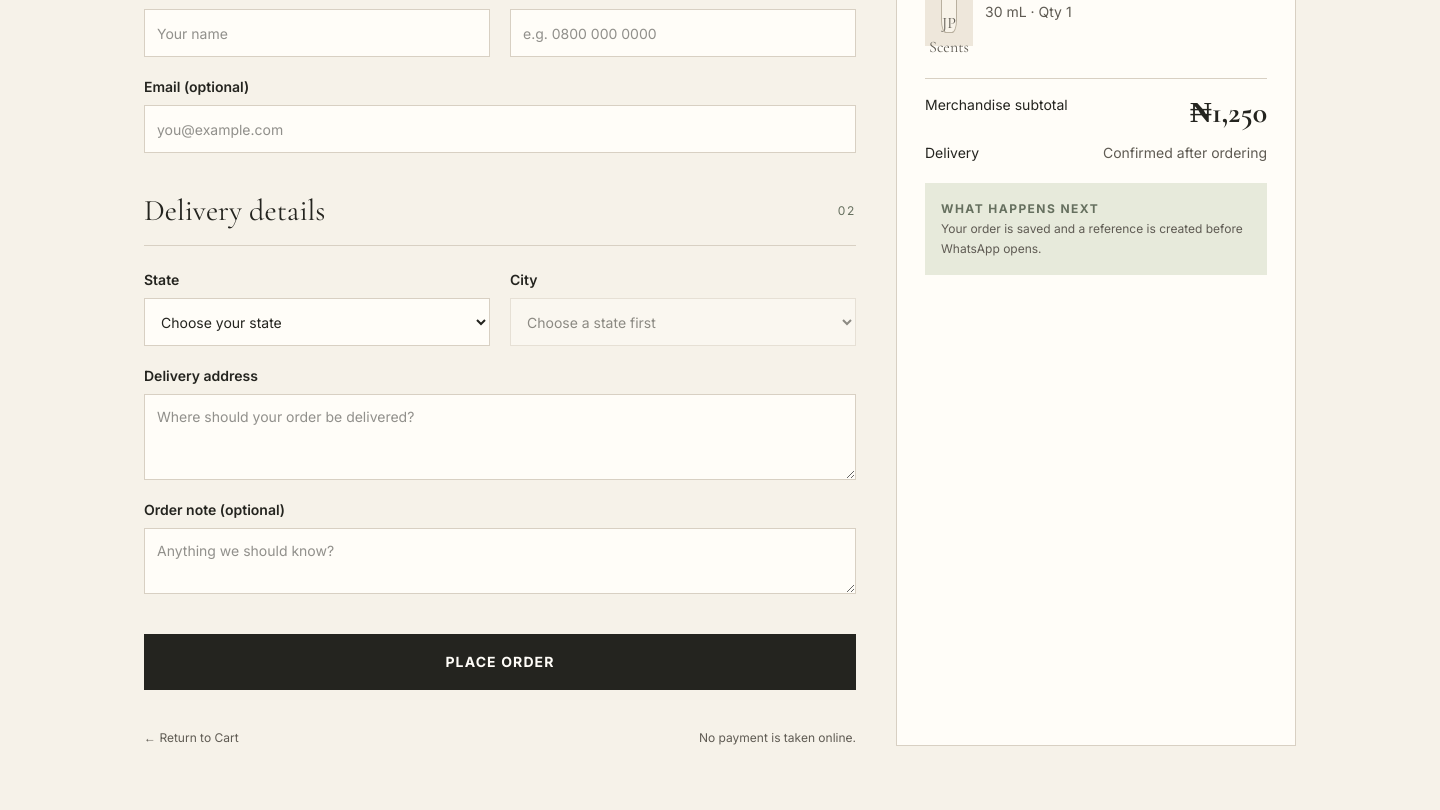
Test: order presentations › keeps checkout submission single-flight and exposes server field errors
(page scrolled)
Step 1. Click the button "Place order" → (500,662), box [144,634,856,690]
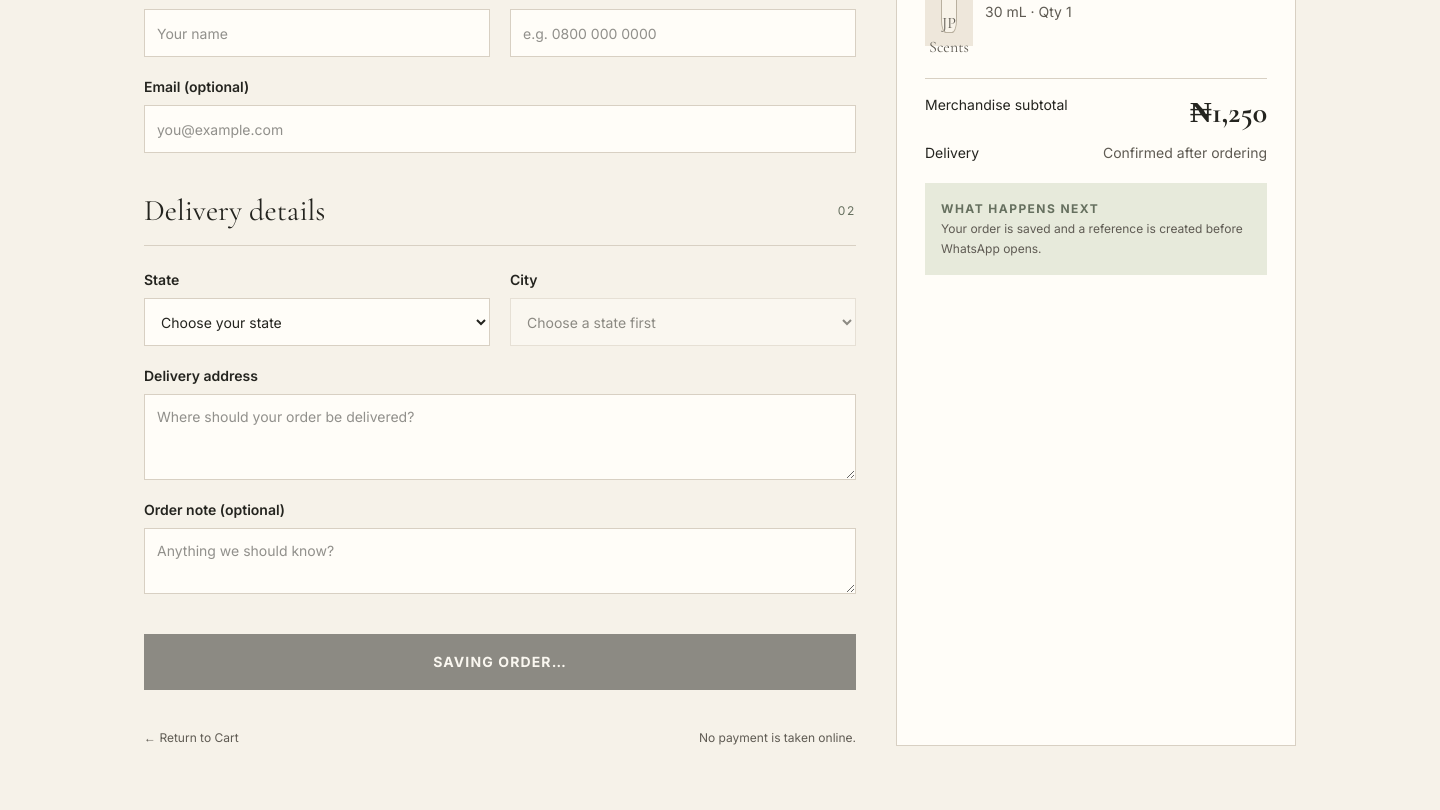
Now the button named "Place order" is disabled
Step 2. Click the button named "Place order" → (500,662), box [144,634,856,690]
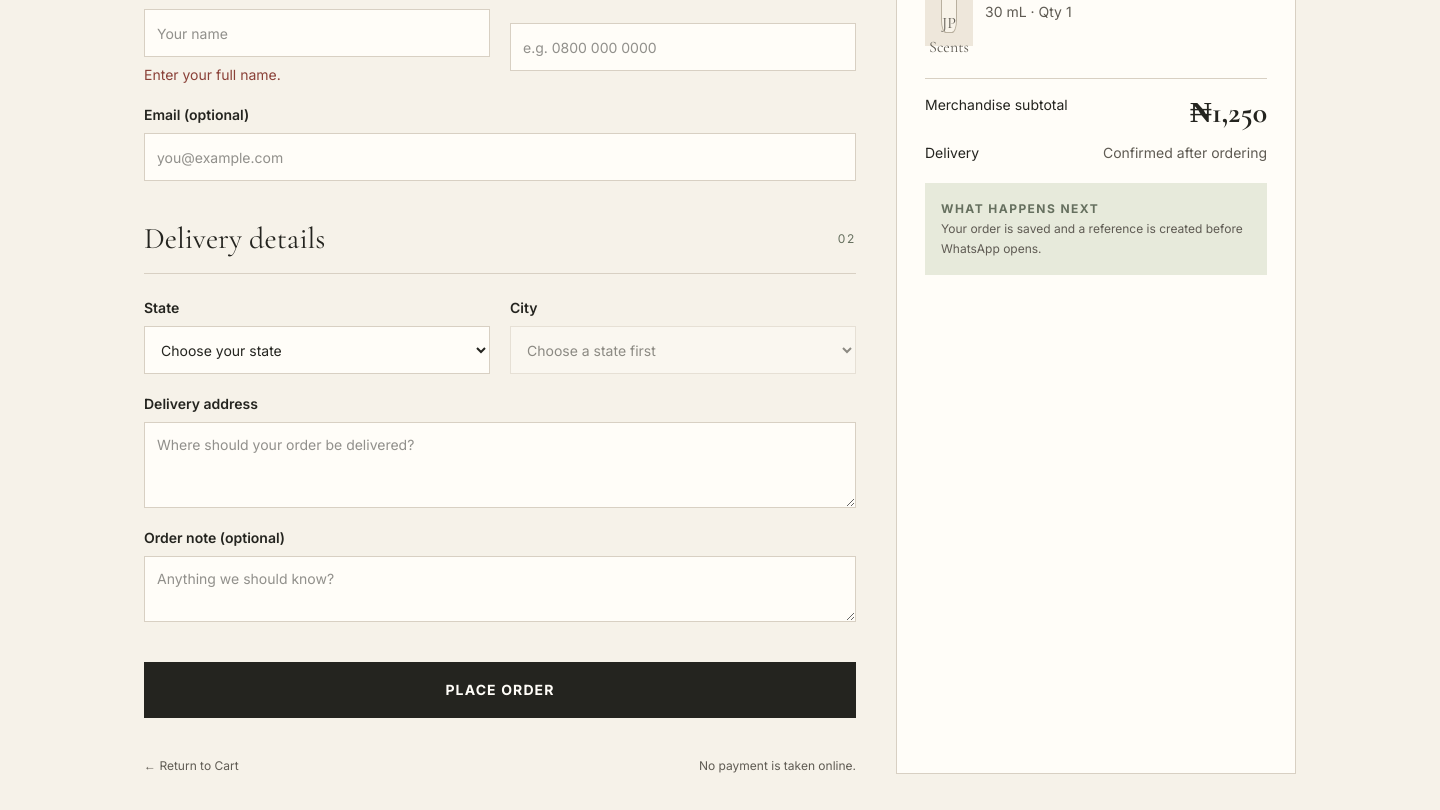
Now the message reads "Enter your full name.", box [144,66,281,83]
